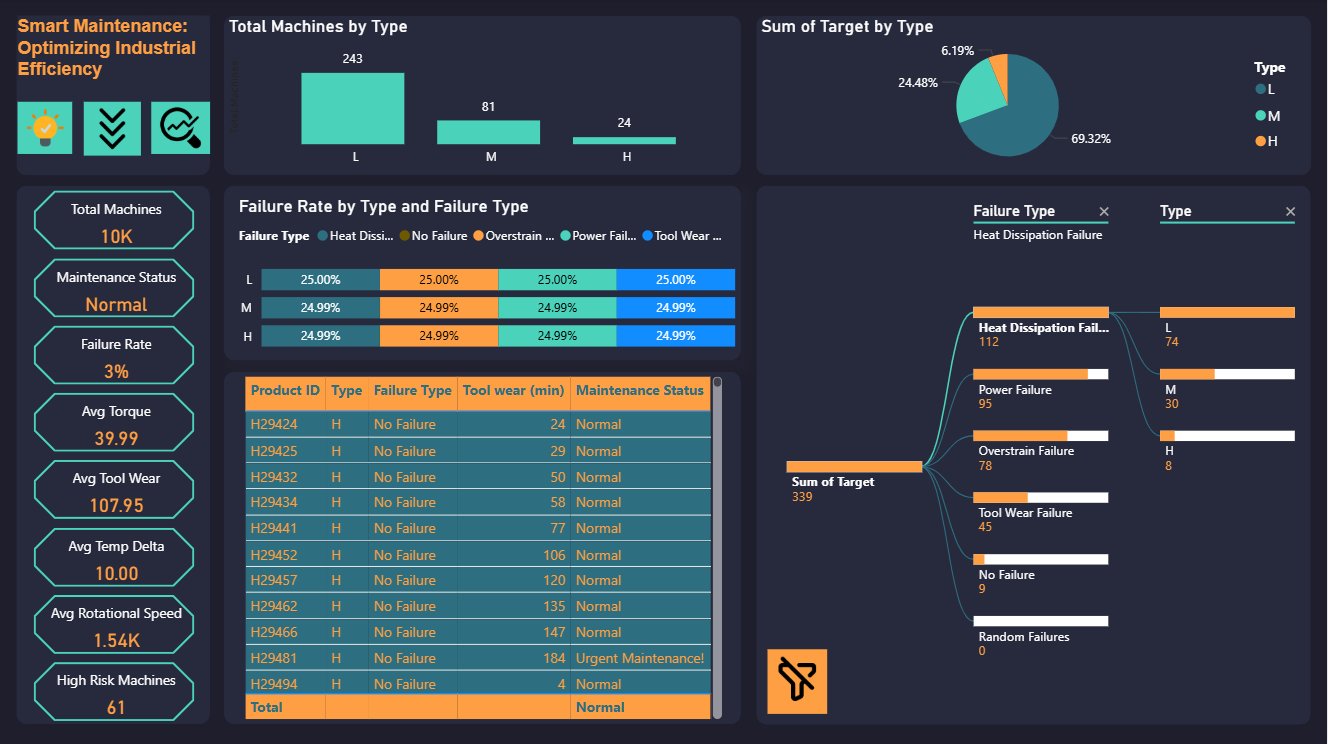

This screenshot's page, from the dashboard's own definition file:
{"tool":"powerbi","page":{"name":"Maintenance","canvas":[1280,720],"ordinal":1},"visuals":[{"type":"shape","box":[15.7,181,187,520],"z":0},{"type":"shape","box":[216,181,499.5,168.9],"z":1000},{"type":"shape","box":[216.2,17.5,499.2,154.2],"z":2000},{"type":"shape","box":[216.2,360.9,499.2,340.2],"z":3000},{"type":"shape","box":[729.7,17.5,535.7,154.2],"z":4000},{"type":"shape","box":[729.6,181.2,535.3,520.4],"z":5000},{"type":"tableEx","fields":{"Values":["predictive_maintenance.Product ID","predictive_maintenance.Type","predictive_maintenance.Failure Type","predictive_maintenance.Tool wear (min)","#DAX.Maintenance Status"]},"box":[230.4,360.7,471.7,340.2],"z":6000},{"type":"shape","box":[15.7,16.9,187,154.4],"z":7000},{"type":"cardVisual","fields":{"Data":["#DAX.Total Machines","#DAX.Maintenance Status","#DAX.Failure Rate","#DAX.Avg Torque","#DAX.Avg Tool Wear","#DAX.Avg Temp Delta","#DAX.Avg Rotational Speed","#DAX.High Risk Machines"]},"box":[27.7,181,165.3,529.6],"z":8000},{"type":"image","box":[16.9,100.1,53.1,50.7],"z":9000},{"type":"image","box":[146,100.1,56.7,50.7],"z":10000},{"type":"actionButton","title":"Smart Maintenance: Optimizing Industrial Efficiency","box":[16.9,16.9,185.8,68.8],"z":11000},{"type":"image","box":[80.2,100.1,55.5,51.9],"z":12000},{"type":"decompositionTreeVisual","fields":{"Analyze":["Sum(predictive_maintenance.Target)"],"ExplainBy":["predictive_maintenance.Failure Type","predictive_maintenance.Type"]},"box":[729.5,180.4,535.8,521.1],"z":14000},{"type":"pieChart","fields":{"Y":["Sum(predictive_maintenance.Target)"],"Category":["predictive_maintenance.Type"]},"box":[729.9,16.9,535.7,154.4],"z":15000},{"type":"hundredPercentStackedBarChart","fields":{"Category":["predictive_maintenance.Type"],"Y":["#DAX.Failure Rate"],"Series":["predictive_maintenance.Failure Type"]},"box":[225.6,191,489.1,163],"z":16000},{"type":"clusteredColumnChart","fields":{"Category":["predictive_maintenance.Type"],"Y":["#DAX.Total Machines"]},"box":[216,16.9,499.5,154.4],"z":17000},{"type":"image","box":[740.2,628,57.5,62.8],"z":18000}]}

Visuals, with their boxes in screenshot pixels (x1, y1, x2, y2), scaled from the page's 1280x720 canvas onto the 1328x744 screenshot:
shape: <region>16, 187, 210, 724</region>
shape: <region>224, 187, 742, 362</region>
shape: <region>224, 18, 742, 177</region>
shape: <region>224, 373, 742, 724</region>
shape: <region>757, 18, 1313, 177</region>
shape: <region>757, 187, 1312, 725</region>
tableEx - predictive_maintenance.Product ID x predictive_maintenance.Type: <region>239, 373, 728, 724</region>
shape: <region>16, 17, 210, 177</region>
cardVisual - #DAX.Total Machines x #DAX.Maintenance Status: <region>29, 187, 200, 734</region>
image: <region>18, 103, 73, 156</region>
image: <region>151, 103, 210, 156</region>
"Smart Maintenance: Optimizing Industrial Efficiency" actionButton: <region>18, 17, 210, 89</region>
image: <region>83, 103, 141, 157</region>
decompositionTreeVisual - Sum(predictive_maintenance.Target) x predictive_maintenance.Failure Type: <region>757, 186, 1313, 725</region>
pieChart - Sum(predictive_maintenance.Target) x predictive_maintenance.Type: <region>757, 17, 1313, 177</region>
hundredPercentStackedBarChart - predictive_maintenance.Type x #DAX.Failure Rate: <region>234, 197, 742, 366</region>
clusteredColumnChart - predictive_maintenance.Type x #DAX.Total Machines: <region>224, 17, 742, 177</region>
image: <region>768, 649, 828, 714</region>
